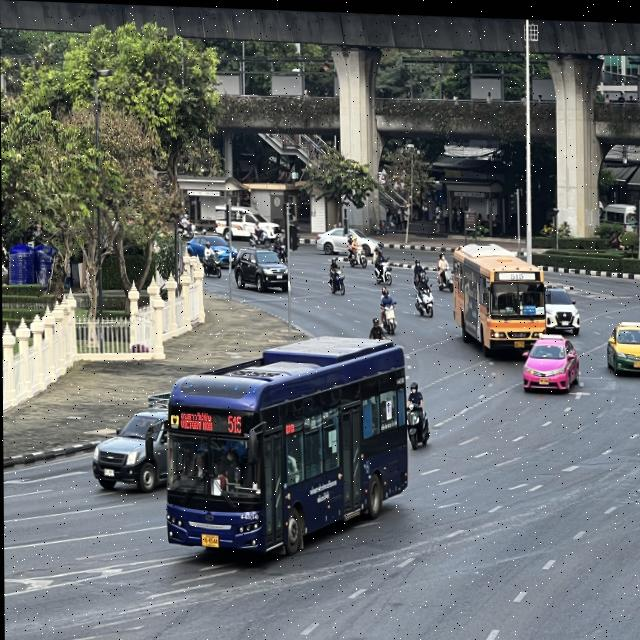BMTA-bus: (440, 239, 546, 359)
Bus-Line-Number: (225, 408, 243, 434), (508, 268, 525, 275)
Destination-Sign-Normal: (176, 407, 215, 432), (523, 301, 535, 311)
TSB-Bus: (163, 330, 426, 562)
